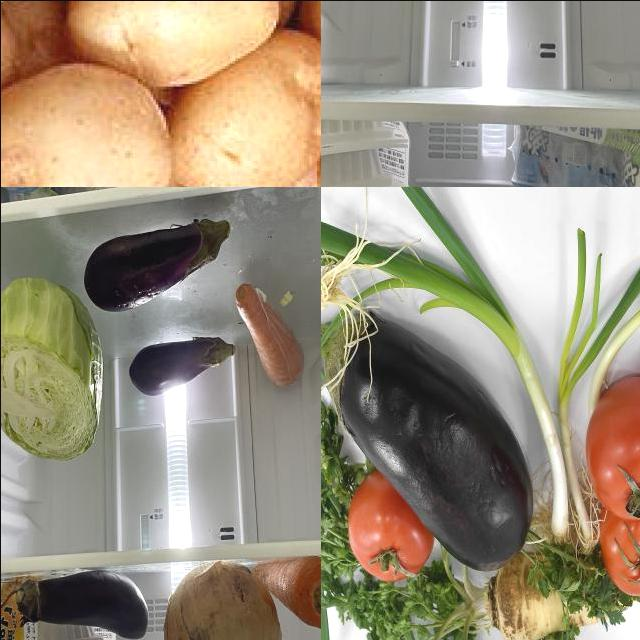cabbage: (1, 277, 103, 466)
carrot: (233, 283, 303, 387), (249, 557, 321, 627)
eggplant: (332, 331, 530, 565), (86, 218, 230, 309), (17, 571, 149, 640), (128, 337, 234, 399)
onion: (158, 564, 282, 640)
potato: (169, 28, 321, 187), (1, 69, 174, 187), (72, 1, 289, 87)
tomato: (347, 476, 429, 580), (585, 370, 640, 517), (599, 491, 640, 602)
